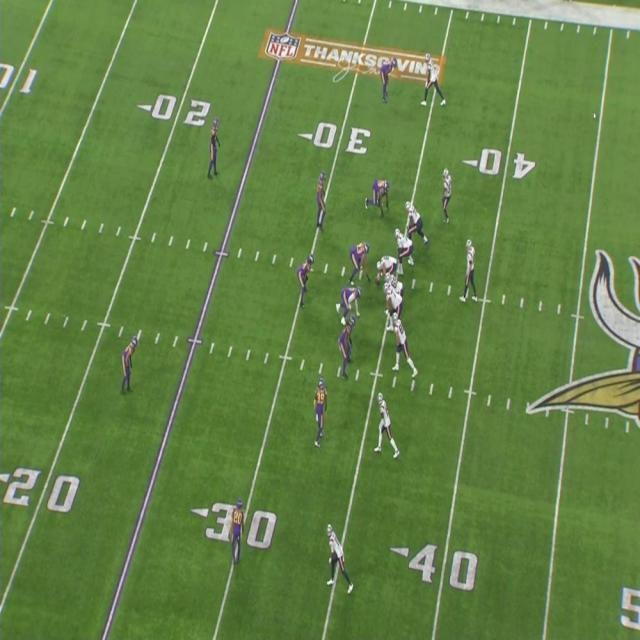center: (376, 252, 398, 280)
db: (121, 336, 138, 390), (231, 496, 247, 551), (316, 377, 329, 443), (208, 118, 220, 174), (379, 58, 394, 102)
lb: (297, 256, 313, 303), (318, 170, 329, 233)
qb: (466, 239, 478, 304)
skill: (326, 526, 350, 590), (377, 391, 395, 453), (422, 55, 442, 106), (395, 316, 413, 371), (443, 164, 455, 221)
